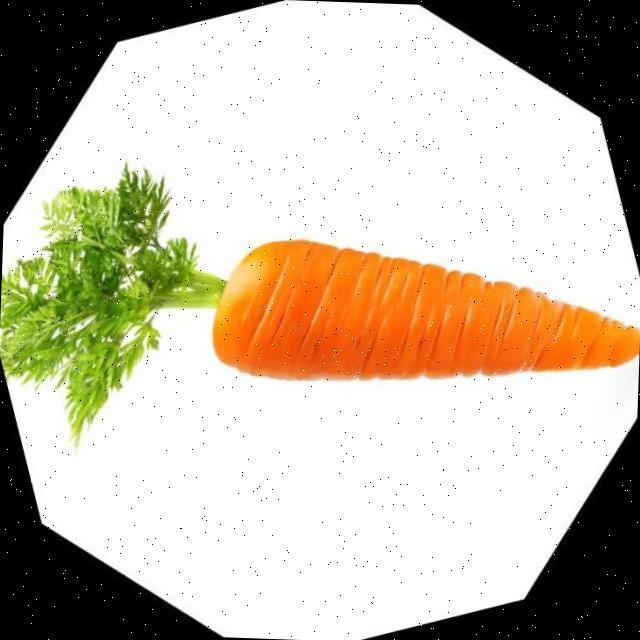carrot: (0, 167, 639, 439)
